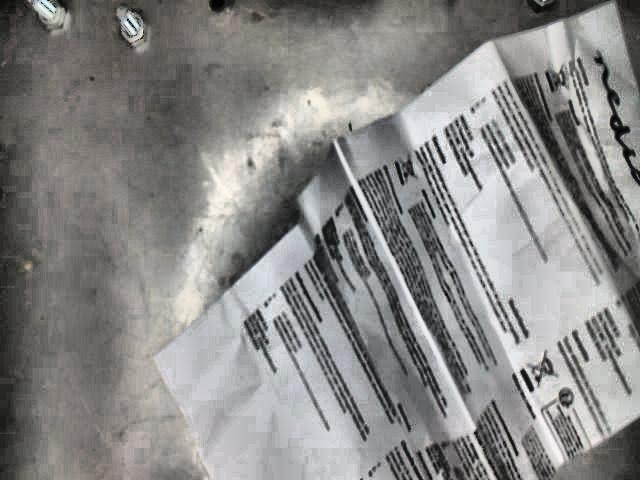Paper: (150, 0, 640, 480)
